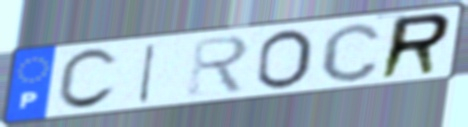C: (53, 46, 121, 113), (318, 20, 385, 84)
I: (135, 41, 160, 106)
O: (252, 28, 314, 93)
R: (375, 10, 456, 82), (185, 33, 253, 98)
